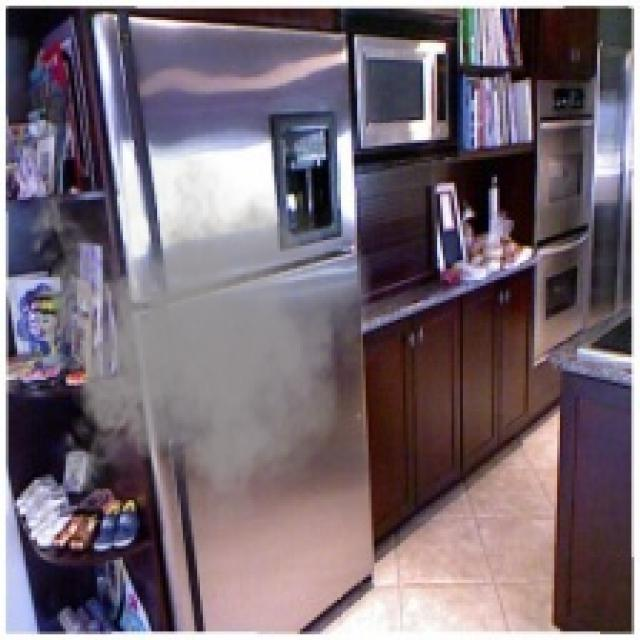smoke: (20, 132, 377, 554)
